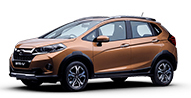car: (7, 15, 178, 92)
